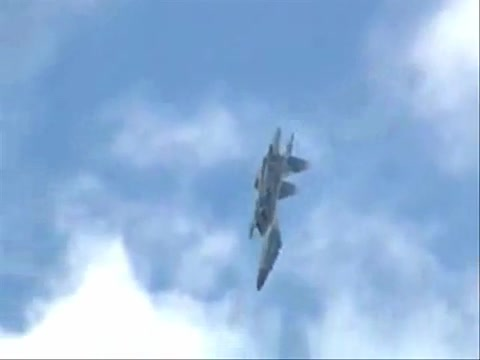aeroplane: (249, 128, 312, 240)
